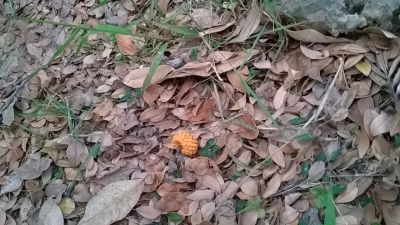eggs: (172, 132, 199, 156)
